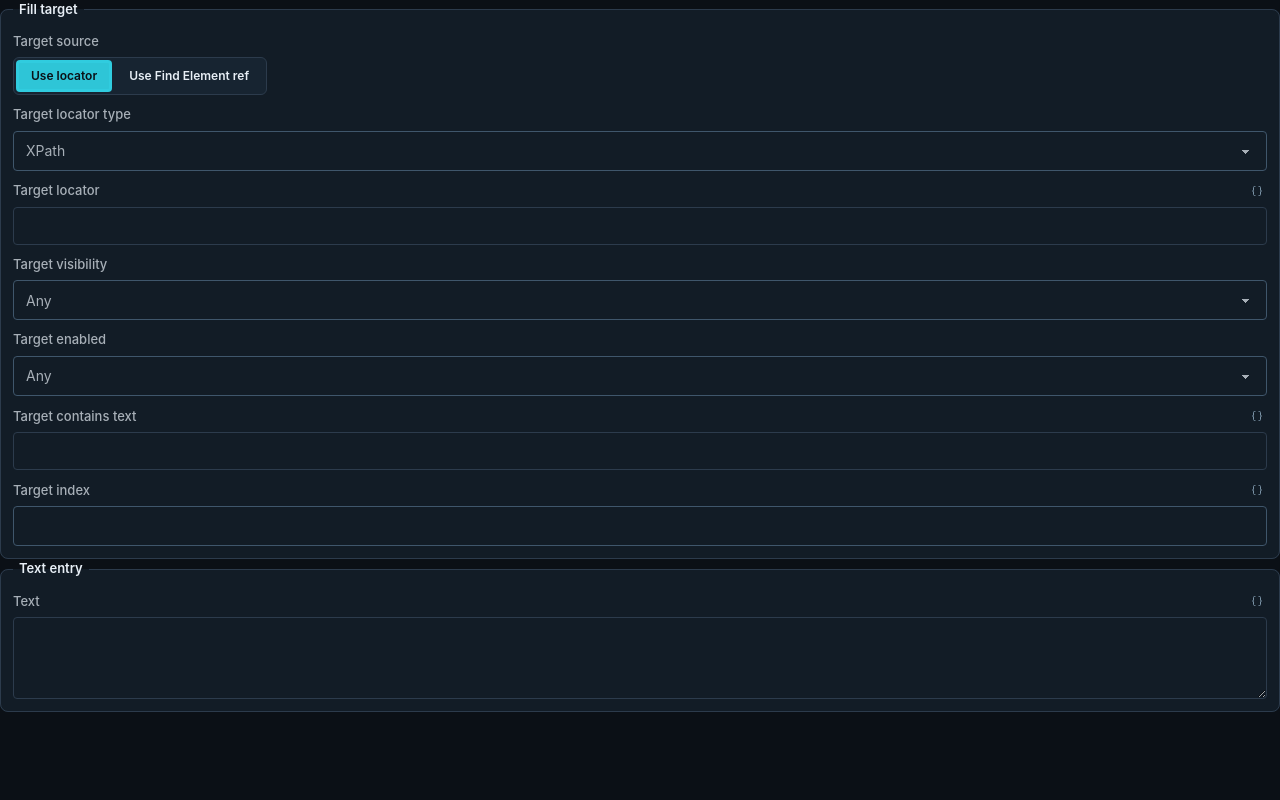
it: ActionConfigEditor › inserts variable tokens into template fields at the cursor
Click the button named "Insert variable for Text": (1257,601) [1247,591,1267,611]
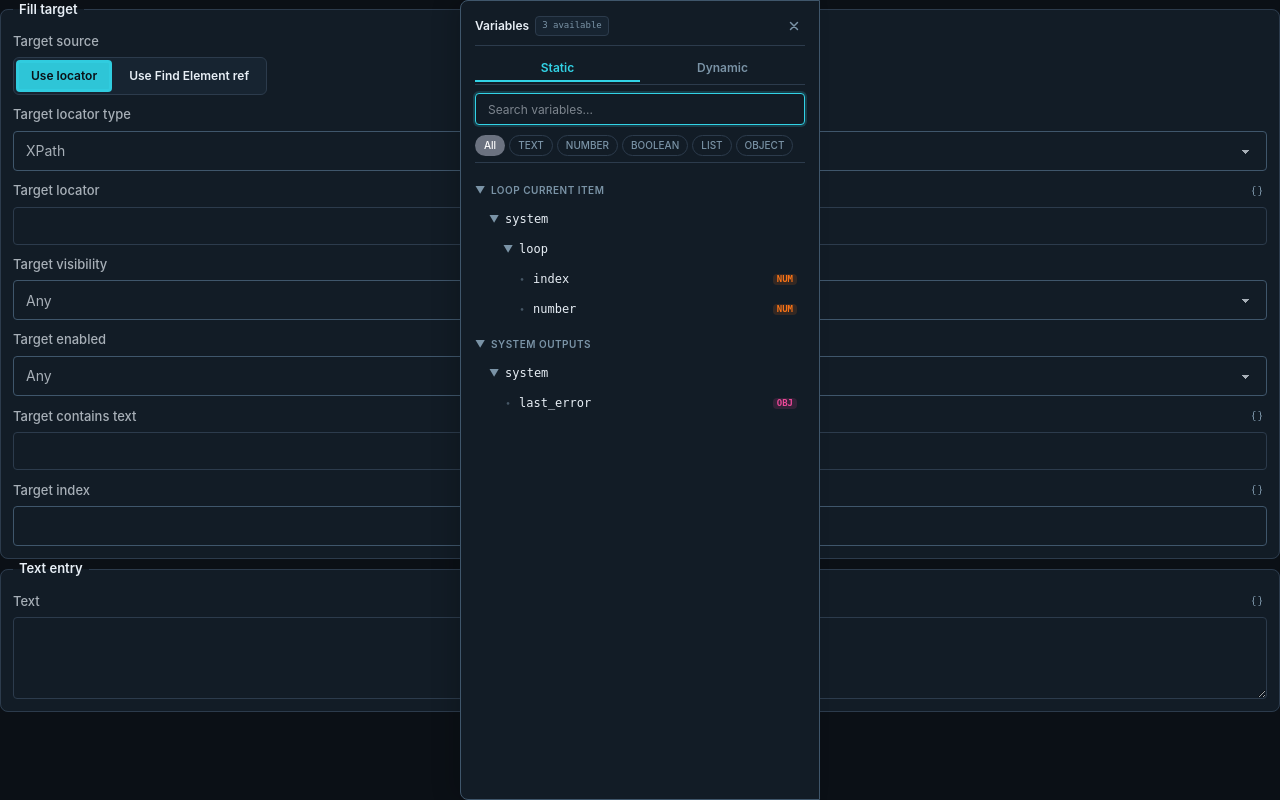
Now the list named "Text variable options" is shown, box [475,184,797,410]
Click the text "last_error": (555,403) [519,395,591,411]
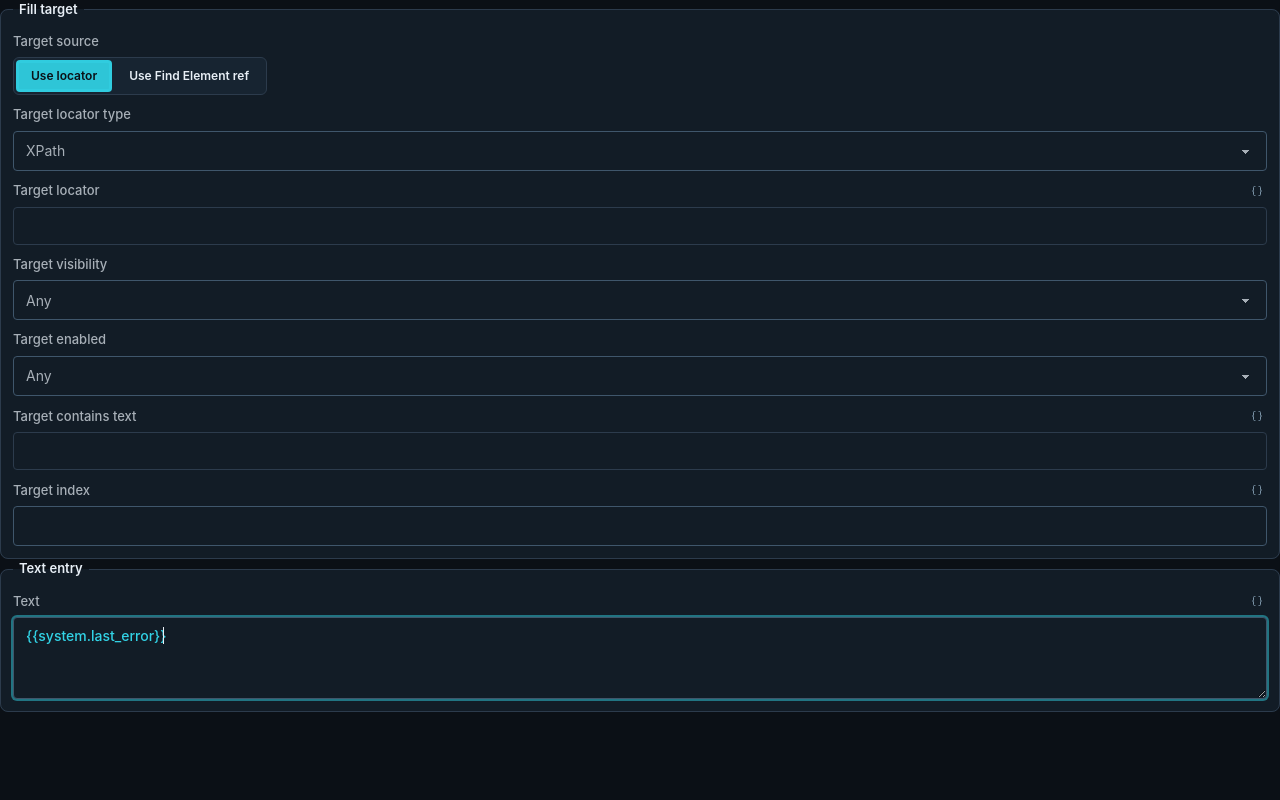
Now the text box labelled "Text" holds "{{system.last_error}}", box [14,618,1266,698]
